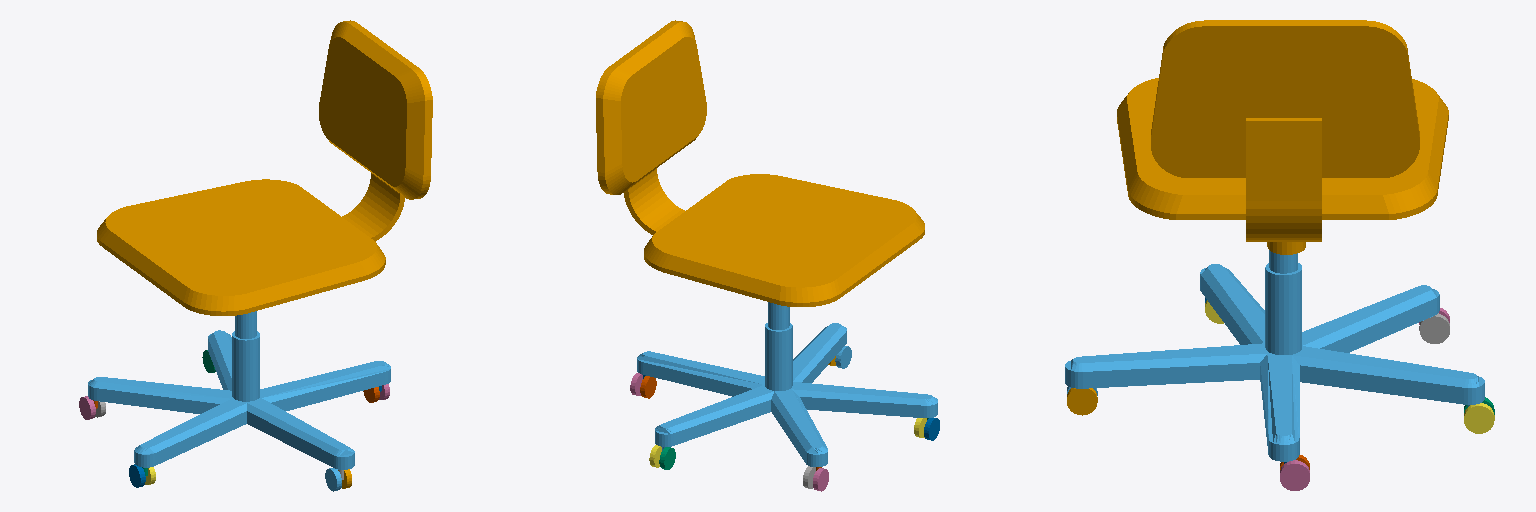
The robot description file, URDF, robot "partnet_cbbbb3aebaf2e112ca07b3f65fc99919":
<?xml version="1.0" encoding="utf-8"?>
<robot name="partnet_cbbbb3aebaf2e112ca07b3f65fc99919">
 <link name="base"/>
 <link name="link_0">
  <visual name="caster_stem-32">
   <origin xyz="0.5199979432784287 0 0.048463262692932975"/>
   <geometry>
    <mesh filename="textured_objs/original-12.obj"/>
   </geometry>
  </visual>
  <collision>
   <geometry>
    <mesh filename="cvx_objs/link_0.obj"/>
   </geometry>
  </collision>
 </link>
 <joint name="joint_0" type="continuous">
  <origin xyz="-0.5199979432784287 0 -0.048463262692932975"/>
  <axis xyz="0 1 0"/>
  <child link="link_0"/>
  <parent link="link_16"/>
 </joint>
 <link name="link_1">
  <visual name="wheel-33">
   <origin xyz="0.5396283893939005 0.6561946915773847 0"/>
   <geometry>
    <mesh filename="textured_objs/original-11.obj"/>
   </geometry>
  </visual>
  <collision>
   <geometry>
    <mesh filename="cvx_objs/link_1.obj"/>
   </geometry>
  </collision>
 </link>
 <joint name="joint_1" type="continuous">
  <origin xyz="-0.01963044611547171 -0.6561946915773847 0.048463262692932975"/>
  <axis xyz="0 0 1"/>
  <child link="link_1"/>
  <parent link="link_0"/>
 </joint>
 <link name="link_2">
  <visual name="wheel-34">
   <origin xyz="0.5396283893939005 0.6561946915773847 0"/>
   <geometry>
    <mesh filename="textured_objs/original-13.obj"/>
   </geometry>
  </visual>
  <collision>
   <geometry>
    <mesh filename="cvx_objs/link_2.obj"/>
   </geometry>
  </collision>
 </link>
 <joint name="joint_2" type="continuous">
  <origin xyz="-0.01963044611547171 -0.6561946915773847 0.048463262692932975"/>
  <axis xyz="0 0 1"/>
  <child link="link_2"/>
  <parent link="link_0"/>
 </joint>
 <link name="link_3">
  <visual name="caster_stem-29">
   <origin xyz="0.007857727540286737 0 0.4268238426955686"/>
   <geometry>
    <mesh filename="textured_objs/original-16.obj"/>
   </geometry>
  </visual>
  <collision>
   <geometry>
    <mesh filename="cvx_objs/link_3.obj"/>
   </geometry>
  </collision>
 </link>
 <joint name="joint_3" type="continuous">
  <origin xyz="-0.007857727540286737 0 -0.4268238426955686"/>
  <axis xyz="0 1 0"/>
  <child link="link_3"/>
  <parent link="link_16"/>
 </joint>
 <link name="link_4">
  <visual name="wheel-30">
   <origin xyz="0.027488000000000002 0.6561945 0"/>
   <geometry>
    <mesh filename="textured_objs/original-15.obj"/>
   </geometry>
  </visual>
  <collision>
   <geometry>
    <mesh filename="cvx_objs/link_4.obj"/>
   </geometry>
  </collision>
 </link>
 <joint name="joint_4" type="continuous">
  <origin xyz="-0.019630272459713265 -0.6561945 0.4268238426955686"/>
  <axis xyz="0 0 -1"/>
  <child link="link_4"/>
  <parent link="link_3"/>
 </joint>
 <link name="link_5">
  <visual name="wheel-31">
   <origin xyz="0.027488000000000002 0.6561945 0"/>
   <geometry>
    <mesh filename="textured_objs/original-17.obj"/>
   </geometry>
  </visual>
  <collision>
   <geometry>
    <mesh filename="cvx_objs/link_5.obj"/>
   </geometry>
  </collision>
 </link>
 <joint name="joint_5" type="continuous">
  <origin xyz="-0.019630272459713265 -0.6561945 0.4268238426955686"/>
  <axis xyz="0 0 -1"/>
  <child link="link_5"/>
  <parent link="link_3"/>
 </joint>
 <link name="link_6">
  <visual name="caster_stem-26">
   <origin xyz="-0.583746262692933 0 -0.07290694327842874"/>
   <geometry>
    <mesh filename="textured_objs/original-20.obj"/>
   </geometry>
  </visual>
  <collision>
   <geometry>
    <mesh filename="cvx_objs/link_6.obj"/>
   </geometry>
  </collision>
 </link>
 <joint name="joint_6" type="continuous">
  <origin xyz="0.583746262692933 0 0.07290694327842874"/>
  <axis xyz="0 1 0"/>
  <child link="link_6"/>
  <parent link="link_16"/>
 </joint>
 <link name="link_7">
  <visual name="wheel-27">
   <origin xyz="-0.5641160000000001 0.6561945 0"/>
   <geometry>
    <mesh filename="textured_objs/original-21.obj"/>
   </geometry>
  </visual>
  <collision>
   <geometry>
    <mesh filename="cvx_objs/link_7.obj"/>
   </geometry>
  </collision>
 </link>
 <joint name="joint_7" type="continuous">
  <origin xyz="-0.019630262692932887 -0.6561945 -0.07290694327842874"/>
  <axis xyz="0 0 1"/>
  <child link="link_7"/>
  <parent link="link_6"/>
 </joint>
 <link name="link_8">
  <visual name="wheel-28">
   <origin xyz="-0.5641160000000001 0.6561945 0"/>
   <geometry>
    <mesh filename="textured_objs/original-19.obj"/>
   </geometry>
  </visual>
  <collision>
   <geometry>
    <mesh filename="cvx_objs/link_8.obj"/>
   </geometry>
  </collision>
 </link>
 <joint name="joint_8" type="continuous">
  <origin xyz="-0.019630262692932887 -0.6561945 -0.07290694327842874"/>
  <axis xyz="0 0 1"/>
  <child link="link_8"/>
  <parent link="link_6"/>
 </joint>
 <link name="link_9">
  <visual name="caster_stem-23">
   <origin xyz="-0.1992031573044314 0 -0.6759812724597132"/>
   <geometry>
    <mesh filename="textured_objs/original-24.obj"/>
   </geometry>
  </visual>
  <collision>
   <geometry>
    <mesh filename="cvx_objs/link_9.obj"/>
   </geometry>
  </collision>
 </link>
 <joint name="joint_9" type="continuous">
  <origin xyz="0.1992031573044314 0 0.6759812724597132"/>
  <axis xyz="0 1 0"/>
  <child link="link_9"/>
  <parent link="link_16"/>
 </joint>
 <link name="link_10">
  <visual name="wheel-24">
   <origin xyz="-0.179573 0.6561945 0"/>
   <geometry>
    <mesh filename="textured_objs/original-25.obj"/>
   </geometry>
  </visual>
  <collision>
   <geometry>
    <mesh filename="cvx_objs/link_10.obj"/>
   </geometry>
  </collision>
 </link>
 <joint name="joint_10" type="continuous">
  <origin xyz="-0.019630157304431378 -0.6561945 -0.6759812724597132"/>
  <axis xyz="0 0 1"/>
  <child link="link_10"/>
  <parent link="link_9"/>
 </joint>
 <link name="link_11">
  <visual name="wheel-25">
   <origin xyz="-0.179573 0.6561945 0"/>
   <geometry>
    <mesh filename="textured_objs/original-23.obj"/>
   </geometry>
  </visual>
  <collision>
   <geometry>
    <mesh filename="cvx_objs/link_11.obj"/>
   </geometry>
  </collision>
 </link>
 <joint name="joint_11" type="continuous">
  <origin xyz="-0.019630157304431378 -0.6561945 -0.6759812724597132"/>
  <axis xyz="0 0 1"/>
  <child link="link_11"/>
  <parent link="link_9"/>
 </joint>
 <link name="link_12">
  <visual name="caster_stem-20">
   <origin xyz="0.396652 0 -0.5410983990680838"/>
   <geometry>
    <mesh filename="textured_objs/original-7.obj"/>
   </geometry>
  </visual>
  <collision>
   <geometry>
    <mesh filename="cvx_objs/link_12.obj"/>
   </geometry>
  </collision>
 </link>
 <joint name="joint_12" type="continuous">
  <origin xyz="-0.396652 0 0.5410983990680838"/>
  <axis xyz="0 1 0"/>
  <child link="link_12"/>
  <parent link="link_16"/>
 </joint>
 <link name="link_13">
  <visual name="wheel-21">
   <origin xyz="0.4162823893939005 0.6561946915773849 0"/>
   <geometry>
    <mesh filename="textured_objs/original-6.obj"/>
   </geometry>
  </visual>
  <collision>
   <geometry>
    <mesh filename="cvx_objs/link_13.obj"/>
   </geometry>
  </collision>
 </link>
 <joint name="joint_13" type="continuous">
  <origin xyz="-0.019630389393900494 -0.6561946915773849 -0.5410983990680838"/>
  <axis xyz="0 0 1"/>
  <child link="link_13"/>
  <parent link="link_12"/>
 </joint>
 <link name="link_14">
  <visual name="wheel-22">
   <origin xyz="0.4162823893939005 0.6561946915773849 0"/>
   <geometry>
    <mesh filename="textured_objs/original-8.obj"/>
   </geometry>
  </visual>
  <collision>
   <geometry>
    <mesh filename="cvx_objs/link_14.obj"/>
   </geometry>
  </collision>
 </link>
 <joint name="joint_14" type="continuous">
  <origin xyz="-0.019630389393900494 -0.6561946915773849 -0.5410983990680838"/>
  <axis xyz="0 0 1"/>
  <child link="link_14"/>
  <parent link="link_12"/>
 </joint>
 <link name="link_15">
  <visual name="seat_hard_surface-39">
   <origin xyz="-0.003538000000000003 0 -0.13165949035378124"/>
   <geometry>
    <mesh filename="textured_objs/original-3.obj"/>
   </geometry>
  </visual>
  <visual name="back_hard_surface-43">
   <origin xyz="-0.003538000000000003 0 -0.13165949035378124"/>
   <geometry>
    <mesh filename="textured_objs/original-1.obj"/>
   </geometry>
  </visual>
  <visual name="back_support-41">
   <origin xyz="-0.003538000000000003 0 -0.13165949035378124"/>
   <geometry>
    <mesh filename="textured_objs/original-2.obj"/>
   </geometry>
  </visual>
  <visual name="back_connector-42">
   <origin xyz="-0.003538000000000003 0 -0.13165949035378124"/>
   <geometry>
    <mesh filename="textured_objs/original-4.obj"/>
   </geometry>
  </visual>
  <visual name="central_support-35">
   <origin xyz="-0.003538000000000003 0 -0.13165949035378124"/>
   <geometry>
    <mesh filename="textured_objs/new-8.obj"/>
   </geometry>
  </visual>
  <collision>
   <geometry>
    <mesh filename="cvx_objs/link_15.obj"/>
   </geometry>
  </collision>
 </link>
 <joint name="joint_15" type="continuous">
  <origin xyz="0.0 0 0.0"/>
  <axis xyz="0 -1 0"/>
  <child link="link_15"/>
  <parent link="link_15_helper"/>
 </joint>
 <link name="link_16">
  <visual name="central_support-8">
   <origin xyz="0 0 0"/>
   <geometry>
    <mesh filename="textured_objs/new-5.obj"/>
   </geometry>
  </visual>
  <visual name="central_support-36">
   <origin xyz="0 0 0"/>
   <geometry>
    <mesh filename="textured_objs/new-7.obj"/>
   </geometry>
  </visual>
  <visual name="central_support-37">
   <origin xyz="0 0 0"/>
   <geometry>
    <mesh filename="textured_objs/new-6.obj"/>
   </geometry>
  </visual>
  <visual name="leg-10">
   <origin xyz="0 0 0"/>
   <geometry>
    <mesh filename="textured_objs/new-2.obj"/>
   </geometry>
  </visual>
  <visual name="leg-11">
   <origin xyz="0 0 0"/>
   <geometry>
    <mesh filename="textured_objs/new-1.obj"/>
   </geometry>
  </visual>
  <visual name="leg-12">
   <origin xyz="0 0 0"/>
   <geometry>
    <mesh filename="textured_objs/new-0.obj"/>
   </geometry>
  </visual>
  <visual name="leg-13">
   <origin xyz="0 0 0"/>
   <geometry>
    <mesh filename="textured_objs/new-4.obj"/>
   </geometry>
  </visual>
  <visual name="leg-14">
   <origin xyz="0 0 0"/>
   <geometry>
    <mesh filename="textured_objs/new-3.obj"/>
   </geometry>
  </visual>
  <collision>
   <geometry>
    <mesh filename="cvx_objs/link_16.obj"/>
   </geometry>
  </collision>
 </link>
 <joint name="joint_16" type="fixed">
  <origin rpy="1.570796326794897 0 -1.570796326794897" xyz="0 0 0"/>
  <child link="link_16"/>
  <parent link="base"/>
 </joint>
 <link name="link_15_helper"/>
 <joint name="joint_17" type="prismatic">
  <origin xyz="0.003538000000000003 0 0.13165949035378124"/>
  <axis xyz="0 -1 0"/>
  <child link="link_15_helper"/>
  <parent link="link_16"/>
  <limit lower="0" upper="0.08400000000000007"/>
 </joint>
</robot>

--- Render facts (derived) ---
Views: 3 orthographic renders of the robot side by side, from view 1: azimuth 30°, elevation 25°; view 2: azimuth 150°, elevation 25°; view 3: azimuth 270°, elevation 25°.
Model partnet_cbbbb3aebaf2e112ca07b3f65fc99919 with 19 links and 18 joints (16 continuous, 1 prismatic, 1 fixed), rooted at base, posed all joints at 0.
Visible links, largest first — view 1: link_15, link_16; view 2: link_15, link_16; view 3: link_15, link_16, link_5, link_2, link_14, link_7.
Boxes of the visible links, bbox=[...] form: link_15: bbox=[97, 20, 432, 315]; link_16: bbox=[88, 311, 390, 469]; link_15: bbox=[596, 20, 924, 306]; link_16: bbox=[637, 302, 937, 466]; link_15: bbox=[1117, 20, 1448, 254]; link_16: bbox=[1065, 250, 1484, 461]; link_5: bbox=[1280, 460, 1309, 490]; link_2: bbox=[1464, 403, 1494, 433]; link_14: bbox=[1419, 313, 1449, 343]; link_7: bbox=[1067, 388, 1097, 415].
Size in the robot's own frame: 1.18 by 1.19 by 1.43 metres.
Meshes: 28 distinct files referenced, 28 mesh visuals loaded (28 OBJ).
